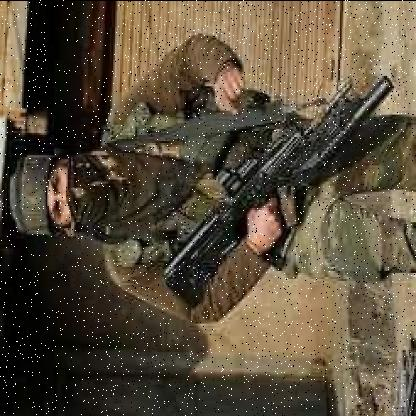rifle: (159, 71, 399, 290)
